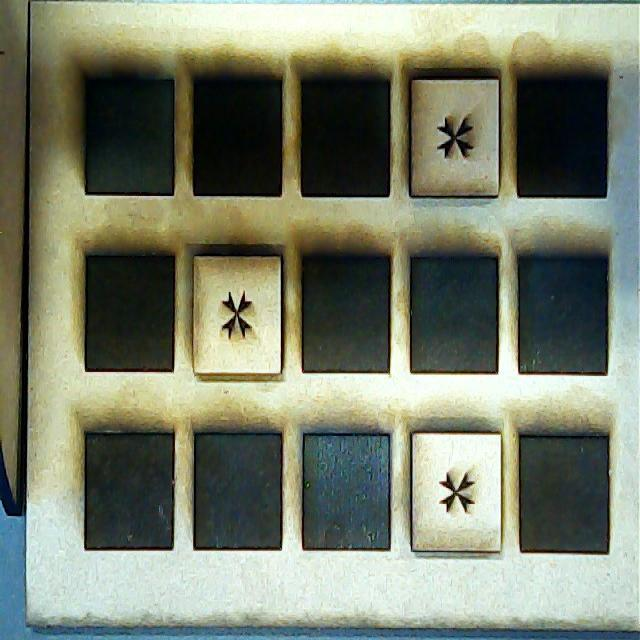maltese: (409, 72, 501, 197), (410, 434, 503, 555), (193, 255, 284, 375)
